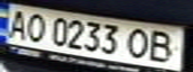0: (45, 15, 69, 47)
2: (63, 17, 87, 52)
3: (100, 21, 124, 56), (81, 19, 103, 54)
A: (3, 7, 30, 39)
B: (145, 28, 184, 64)
O: (124, 26, 154, 61), (21, 11, 48, 43)
